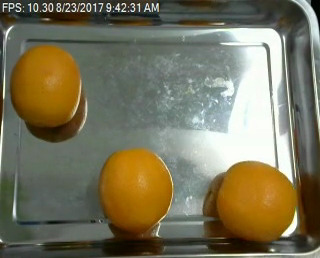Orange: (215, 160, 301, 241), (99, 148, 173, 231), (11, 43, 81, 126)
